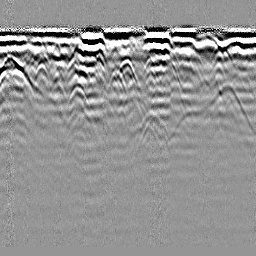cavity: (118, 54, 139, 87)
